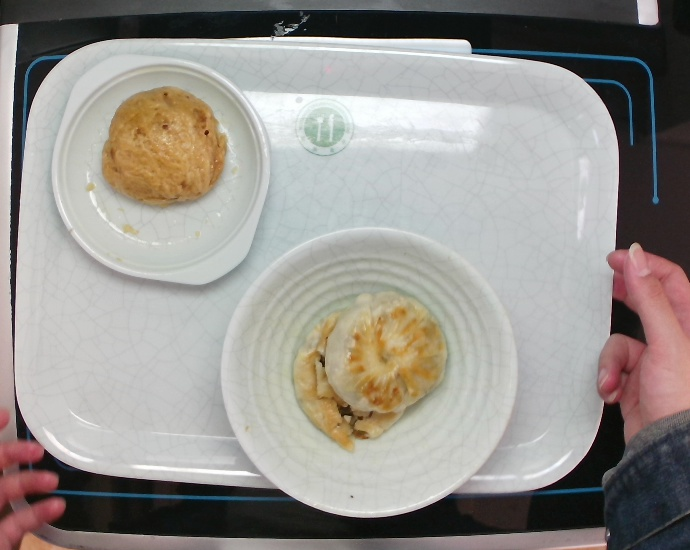JYsf-Shuang_Er_Pan: (45, 49, 272, 295)
JYsf-Xiao_Tang_Wan: (214, 217, 524, 527)
